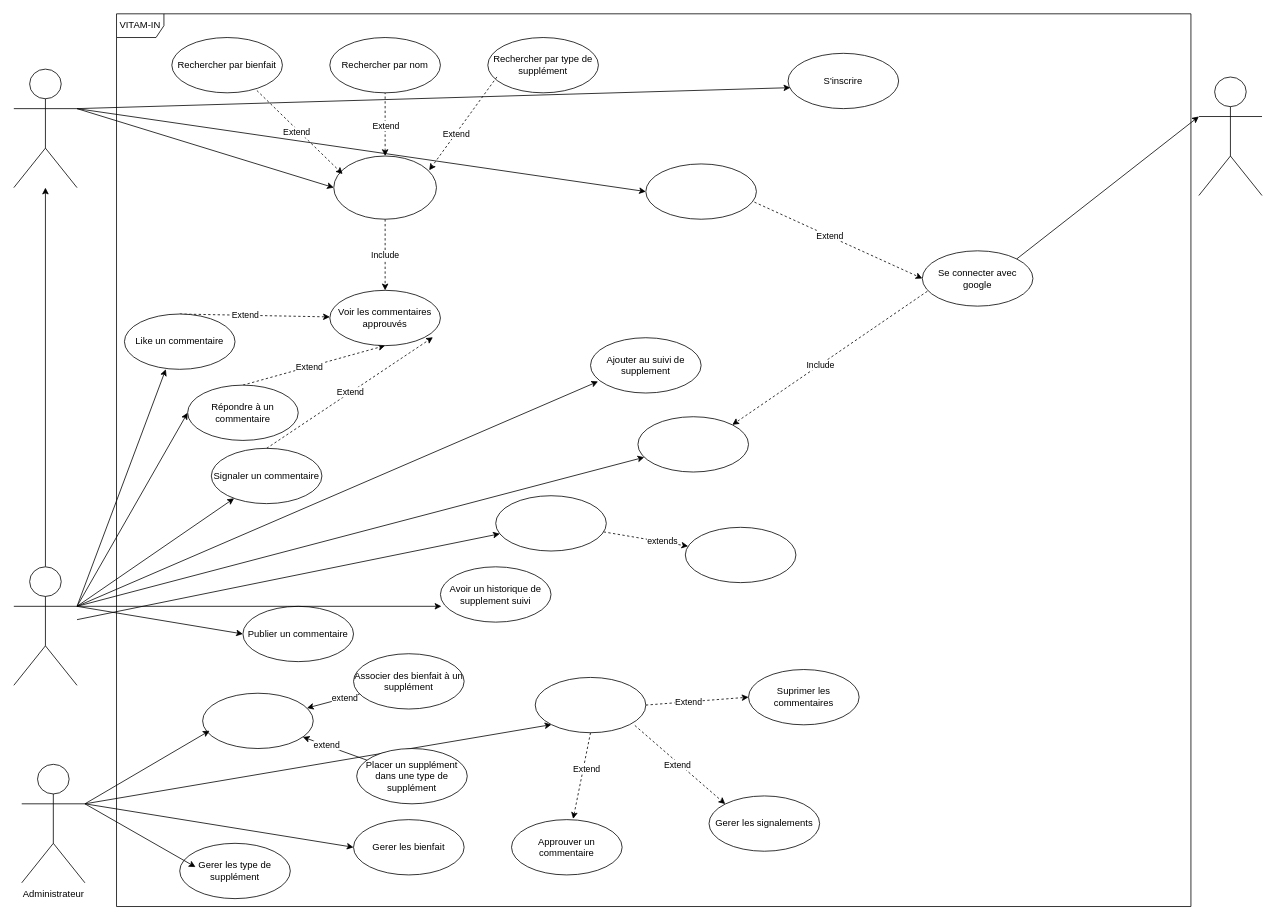
This 1278x920 diagram has some shape labels left out. The centre of each missing label's shape, as x and y in pixels:
"Activer rappel de google calendar" goes at (693,444).
"consulter fiche de supplémente" goes at (384,187).
"Consulter le suivi d'un supplément" goes at (550,523).
"Google Auth 2.0" goes at (1230,136).
"Gérer le catalogue de suppléments" goes at (257,720).
"Membre" goes at (45,625).
"Moderer un commentaire" goes at (590,705).
"Prendre des notes personnelles sur un suivi de supplément" goes at (740,555).
"Se connecter" goes at (700,191).
"Visiteur" goes at (45,128).
